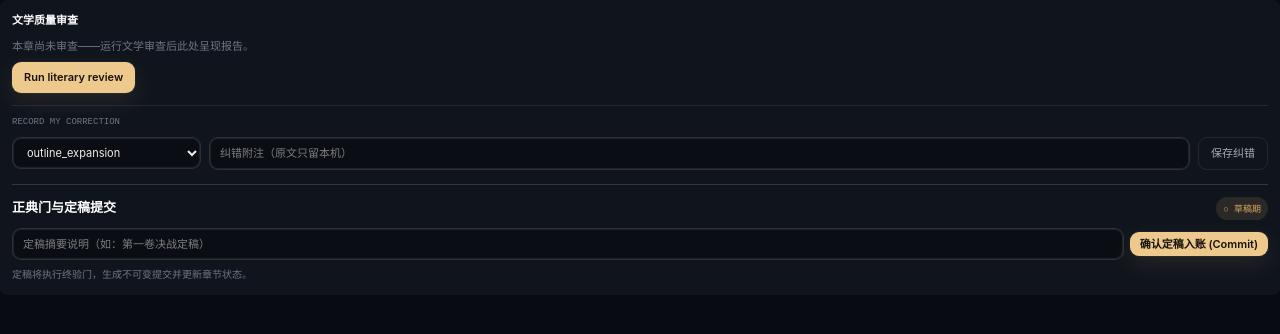
Scenario: QualityPanel（初载契约修复后语义保全） › 纠错：原因下拉 + 附注 + 显式保存（附注原文只留本机）
This screenshot has width=1280, height=334.
Select "style_drift" in the dropdown named "纠错原因": {"x": 106, "y": 153} top-left (12, 137), bottom-right (201, 169)
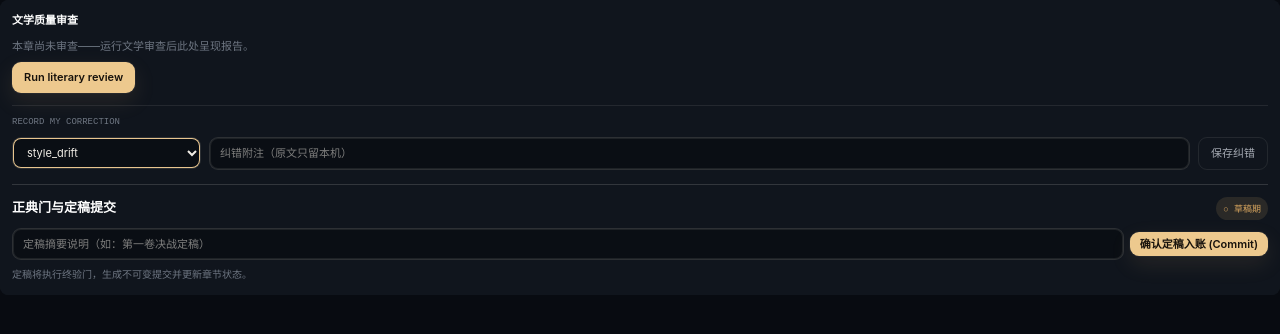
In the field with placeholder "纠错附注（原文只留本机）": {"x": 700, "y": 153} top-left (209, 137), bottom-right (1190, 170), type "把大纲当正文写了"
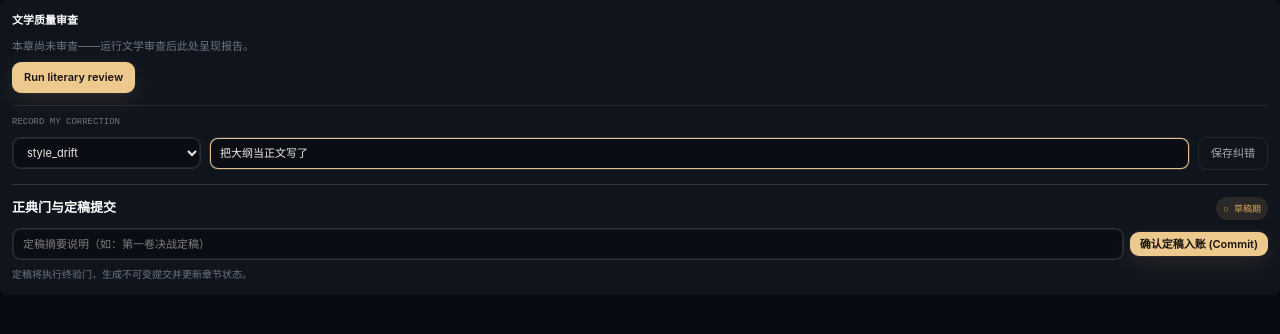
Click the button "保存纠错": {"x": 1233, "y": 153} top-left (1198, 137), bottom-right (1268, 170)
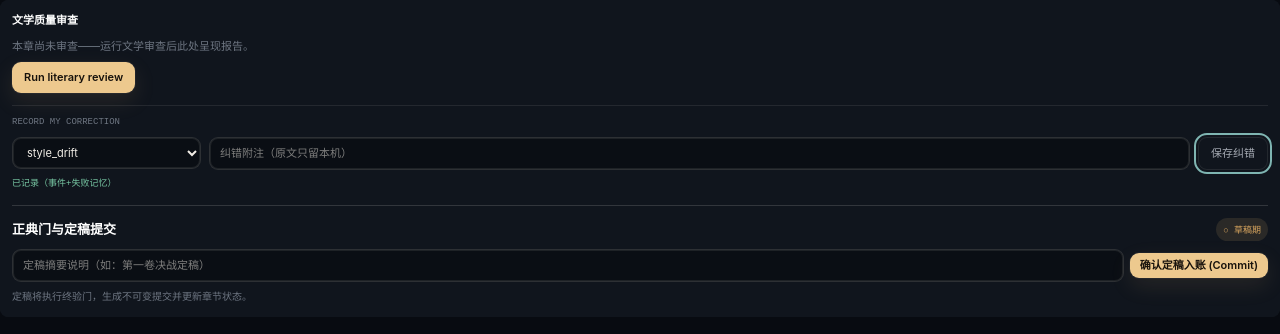
Check: the text "已记录（事件+失败记忆）" is shown, box top-left (12, 178), bottom-right (116, 188)
